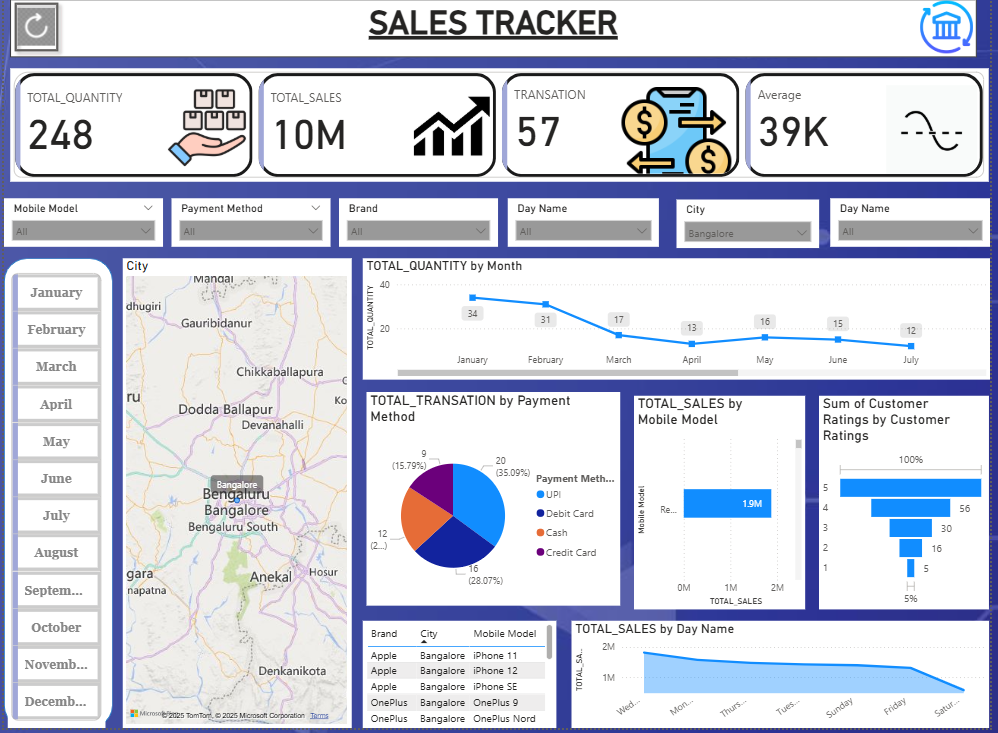

The page's visual inventory and layout, read from the dashboard file:
{"tool":"powerbi","page":{"name":"Page 1","canvas":[1300,970],"ordinal":0},"visuals":[{"type":"textbox","box":[8.2,9.9,1273.5,75.8],"z":0},{"type":"shape","box":[0,350.9,143.3,619.4],"z":1000},{"type":"advancedSlicerVisual","fields":{"Values":["sales.Date.Variation.Date Hierarchy.Month"]},"box":[4.9,365.7,128.5,604.6],"z":2000},{"type":"cardVisual","fields":{"Data":["sales.TOTAL_QUANTITY","sales.TOTAL_SALES","sales.TOTAL_TRANSATION","sales.Average"]},"box":[8.2,100.5,1289.9,149.9],"z":3000},{"type":"map","fields":{"Category":["sales.City"]},"box":[156.5,350.9,301.5,619.4],"z":4000},{"type":"lineChart","fields":{"Category":["sales.Date.Variation.Date Hierarchy.Month"],"Y":["sales.TOTAL_QUANTITY"]},"box":[472.8,350.9,827,159.8],"z":5000},{"type":"clusteredBarChart","fields":{"Category":["sales.Mobile Model"],"Y":["sales.TOTAL_SALES"]},"box":[830.3,532.1,225.7,281.7],"z":6000},{"type":"pieChart","fields":{"Category":["sales.Payment Method"],"Y":["sales.TOTAL_TRANSATION"]},"box":[477.8,527.2,334.4,281.7],"z":7000},{"type":"funnel","fields":{"Y":["Sum(sales.Customer Ratings)"],"Category":["sales.Customer Ratings"]},"box":[1074.1,532.1,224.1,281.7],"z":8000},{"type":"areaChart","fields":{"Category":["sales.Day Name"],"Y":["sales.TOTAL_SALES"]},"box":[747.9,828.7,550.2,141.7],"z":9000},{"type":"tableEx","fields":{"Values":["sales.Brand","sales.City","sales.Mobile Model"]},"box":[472.8,828.7,255.4,141.7],"z":10000},{"type":"slicer","fields":{"Values":["sales.Mobile Model"]},"box":[0,271.8,209.2,64.2],"z":11000},{"type":"slicer","fields":{"Values":["sales.Brand"]},"box":[441.5,271.8,209.2,64.2],"z":12000},{"type":"slicer","fields":{"Values":["sales.City"]},"box":[886.3,273.5,187.8,64.2],"z":13000},{"type":"slicer","fields":{"Values":["sales.Day Name"]},"box":[1088.9,271.8,210.9,64.2],"z":14000},{"type":"slicer","fields":{"Values":["sales.Payment Method"]},"box":[220.8,271.8,209.2,64.2],"z":15000},{"type":"image","box":[1202.6,3.3,79.1,85.7],"z":16000},{"type":"actionButton","box":[4.9,4.9,75.8,82.4],"z":17000},{"type":"slicer","fields":{"Values":["sales.Day Name"]},"box":[663.9,271.8,199.3,64.2],"z":18000}]}

Visuals, with their boxes in screenshot pixels (x1, y1, x2, y2), scaled from the page's 1300x970 canvas onto the 998x733 screenshot:
textbox: 6:7:984:65
shape: 0:265:110:732
advancedSlicerVisual - sales.Date.Variation.Date Hierarchy.Month: 4:276:102:732
cardVisual - sales.TOTAL_QUANTITY x sales.TOTAL_SALES: 6:76:997:189
map - sales.City: 120:265:352:732
lineChart - sales.Date.Variation.Date Hierarchy.Month x sales.TOTAL_QUANTITY: 363:265:997:386
clusteredBarChart - sales.Mobile Model x sales.TOTAL_SALES: 637:402:811:615
pieChart - sales.Payment Method x sales.TOTAL_TRANSATION: 367:398:624:611
funnel - Sum(sales.Customer Ratings) x sales.Customer Ratings: 825:402:997:615
areaChart - sales.Day Name x sales.TOTAL_SALES: 574:626:997:732
tableEx - sales.Brand x sales.City: 363:626:559:732
slicer - sales.Mobile Model: 0:205:161:254
slicer - sales.Brand: 339:205:500:254
slicer - sales.City: 680:207:825:255
slicer - sales.Day Name: 836:205:997:254
slicer - sales.Payment Method: 170:205:330:254
image: 923:2:984:67
actionButton: 4:4:62:66
slicer - sales.Day Name: 510:205:663:254
